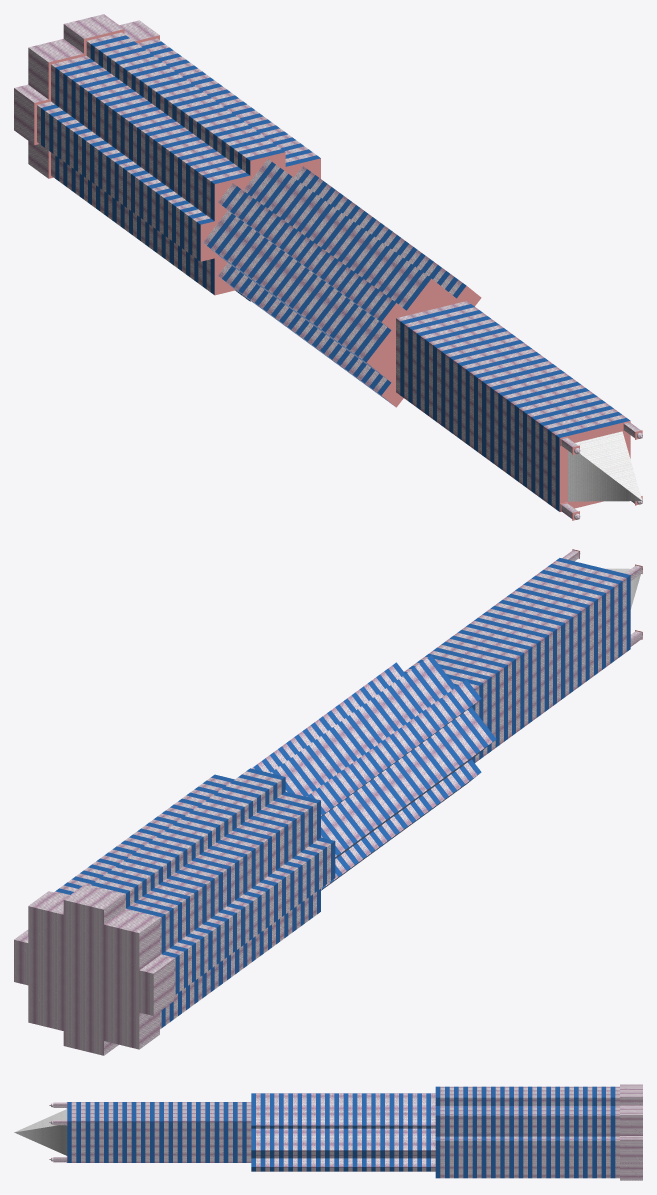
The model's file is Sky060.obj.
3 renders of one model, top to bottom at view 1: azimuth 30°, elevation 25°; view 2: azimuth 150°, elevation 25°; view 3: azimuth 270°, elevation 25°, orthographic. The views are drawn at different scales.
Visible parts, largest first — view 1: glass_01, wall_01, slab_01, wall_02, roof_02; view 2: glass_01, wall_01, wall_04, wall_02; view 3: glass_01, wall_01, wall_02, roof_02, wall_03.
Part boxes in pixels (bbox=[...]): glass_01: bbox=[41, 35, 630, 511]; wall_01: bbox=[37, 32, 626, 508]; slab_01: bbox=[34, 29, 642, 520]; wall_02: bbox=[14, 14, 159, 178]; roof_02: bbox=[568, 431, 642, 501]; glass_01: bbox=[55, 558, 630, 1027]; wall_01: bbox=[54, 561, 626, 1029]; wall_04: bbox=[14, 553, 642, 1055]; wall_02: bbox=[14, 885, 173, 1055]; glass_01: bbox=[67, 1086, 615, 1178]; wall_01: bbox=[71, 1086, 619, 1178]; wall_02: bbox=[620, 1084, 642, 1180]; roof_02: bbox=[14, 1109, 67, 1155]; wall_03: bbox=[53, 1102, 66, 1162].
Size of the model in its own units: 1182 by 1182 by 8193.
Materials: 4 (2 with a texture image).
